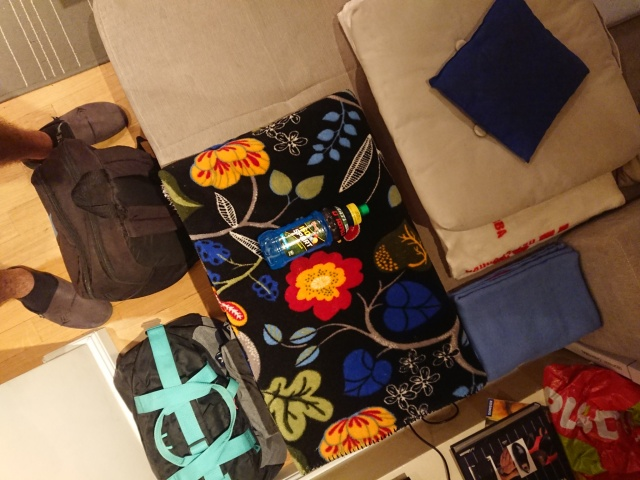Vindi Iso Sport Forest Strawberries 500mL: (256, 200, 371, 271)
